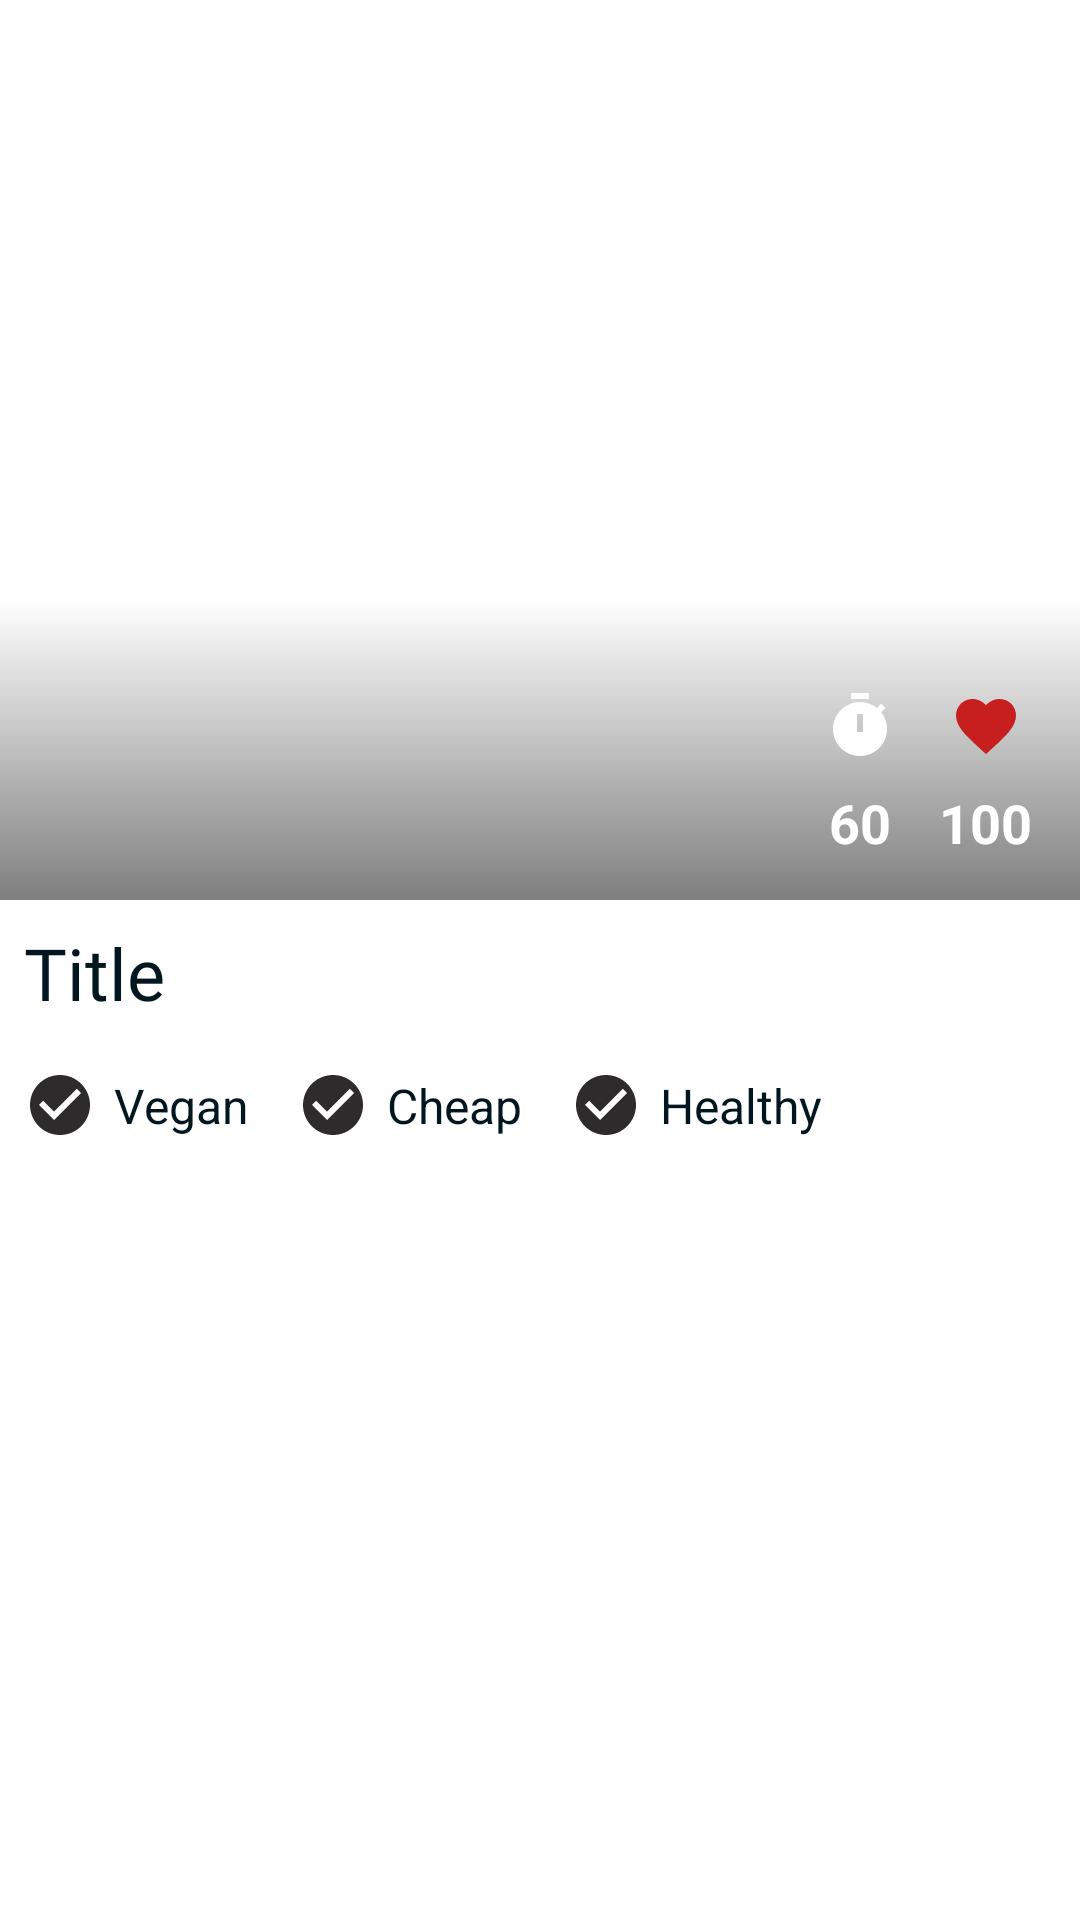

Locate icon controls on the screen. Image size 1080×1920, boxes as (x1, y1, x2, y2).
check: (30, 1075, 90, 1135), (303, 1075, 363, 1135), (576, 1075, 636, 1135)
like: (950, 690, 1022, 754)
time: (824, 690, 896, 756)
